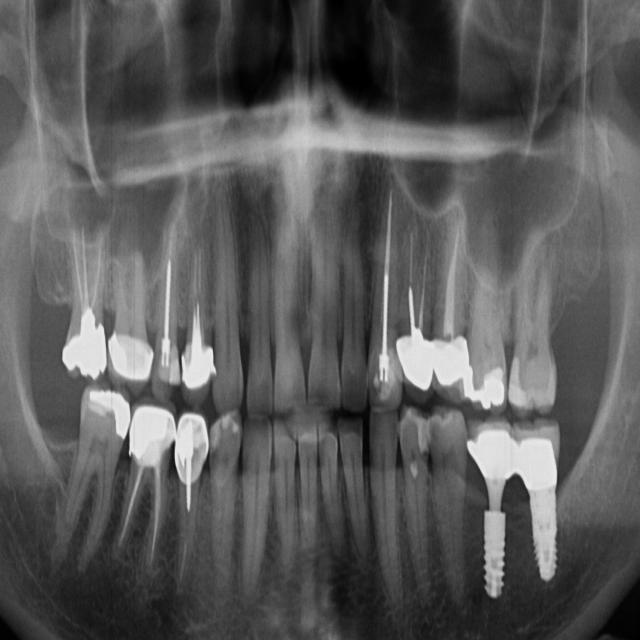dentin-curugu: (332, 412, 371, 442)
dolgu: (75, 385, 139, 443), (466, 362, 514, 412)
implant: (506, 416, 572, 592), (460, 419, 522, 605)
kanal-tedavisi: (140, 220, 190, 347), (429, 216, 477, 346), (373, 176, 404, 377), (68, 220, 118, 330), (128, 453, 174, 571), (398, 212, 438, 339), (180, 232, 224, 346), (170, 456, 208, 570)
kaplama: (60, 304, 113, 384), (129, 392, 177, 472), (110, 319, 158, 394), (173, 404, 215, 488), (396, 330, 444, 393), (433, 326, 469, 395), (180, 342, 222, 399)
